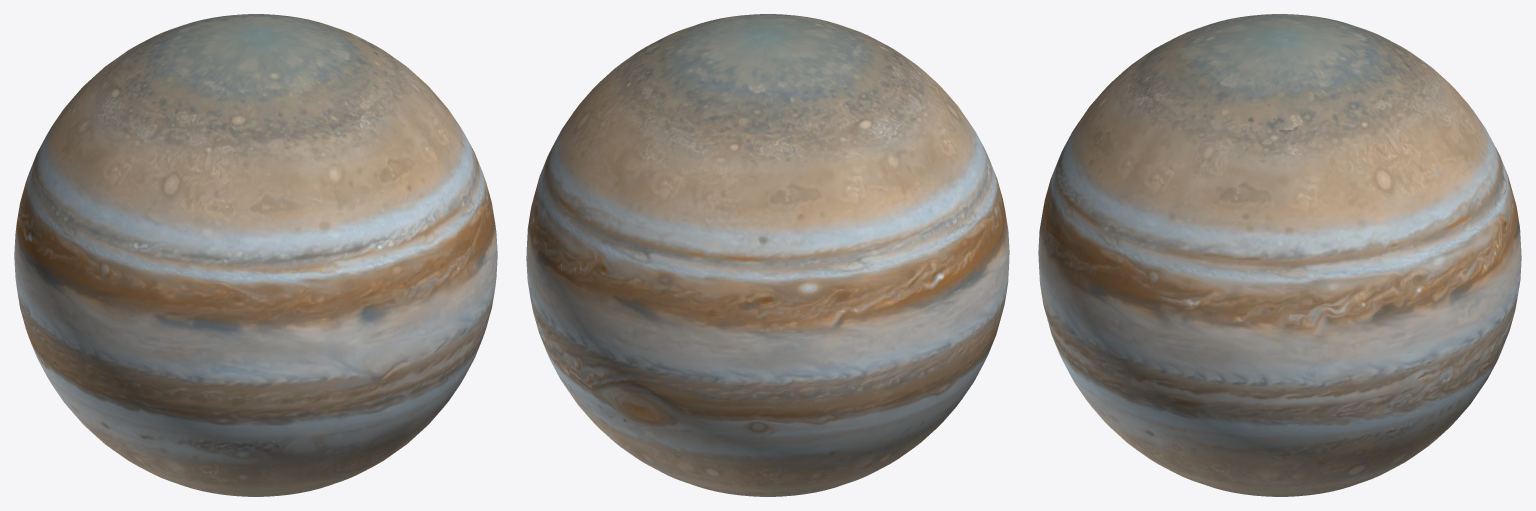
File: jupiter.glb
3 renders of one model, left to right at view 1: azimuth 30°, elevation 25°; view 2: azimuth 150°, elevation 25°; view 3: azimuth 270°, elevation 25°, orthographic.
Visible parts, largest first — view 1: Sphere.001; view 2: Sphere.001; view 3: Sphere.001.
Part boxes in pixels (left/top/right/bottom): Sphere.001: left=14, top=14, right=497, bottom=496; Sphere.001: left=526, top=14, right=1009, bottom=496; Sphere.001: left=1038, top=14, right=1521, bottom=496.
Bounding box in the file's own units: 2.02 × 2.02 × 2.02.
Materials: 1 (1 with a texture image).
